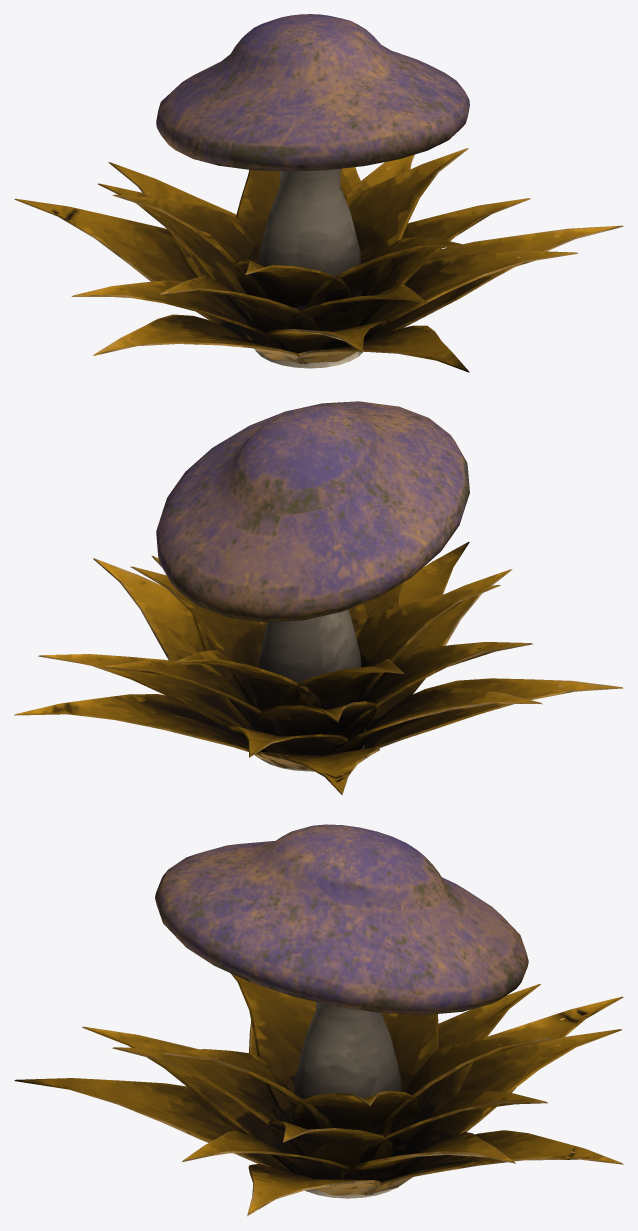
Rendered from Mush 2.fbx.
3 views of the same model, one above another, from view 1: azimuth 30°, elevation 25°; view 2: azimuth 150°, elevation 25°; view 3: azimuth 270°, elevation 25° (orthographic). The views are drawn at different scales.
Parts seen in each view (by area): view 1: Cylinder_2; view 2: Cylinder_2; view 3: Cylinder_2.
Boxes of the visible parts, bbox=[...] form: Cylinder_2: bbox=[14, 14, 623, 372]; Cylinder_2: bbox=[14, 401, 623, 795]; Cylinder_2: bbox=[14, 824, 623, 1216].
Size of the model in its own units: 697 by 405 by 663.
